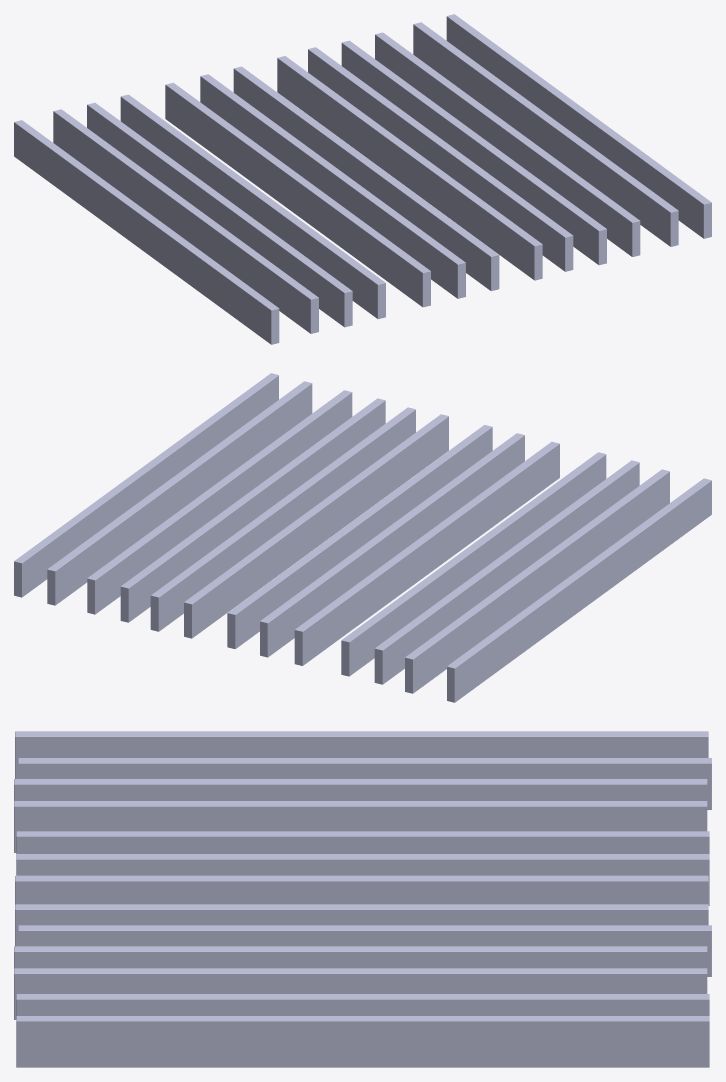
The model's file is SM_ceiling.fbx.
3 views of the same model, one above another, from view 1: azimuth 30°, elevation 25°; view 2: azimuth 150°, elevation 25°; view 3: azimuth 270°, elevation 25° (orthographic). The views are drawn at different scales.
Parts seen in each view (by area): view 1: SM_ceiling; view 2: SM_ceiling; view 3: SM_ceiling.
Boxes of the visible parts, x1,y1,x2,y2 form: SM_ceiling: (14,14,711,344); SM_ceiling: (14,373,711,702); SM_ceiling: (14,731,711,1067).
Size of the model in its own units: 267 by 20 by 272.
